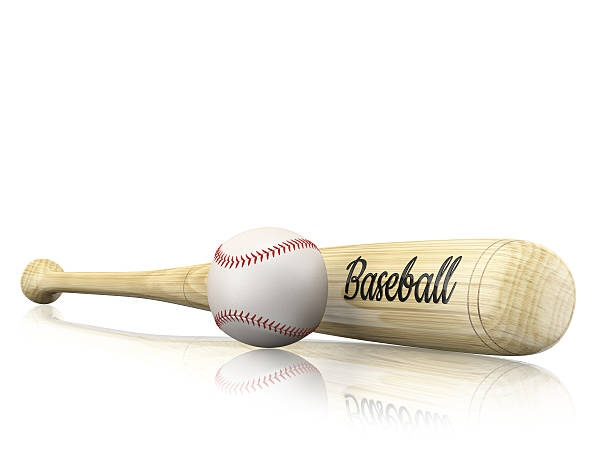bita: (19, 249, 579, 351)
